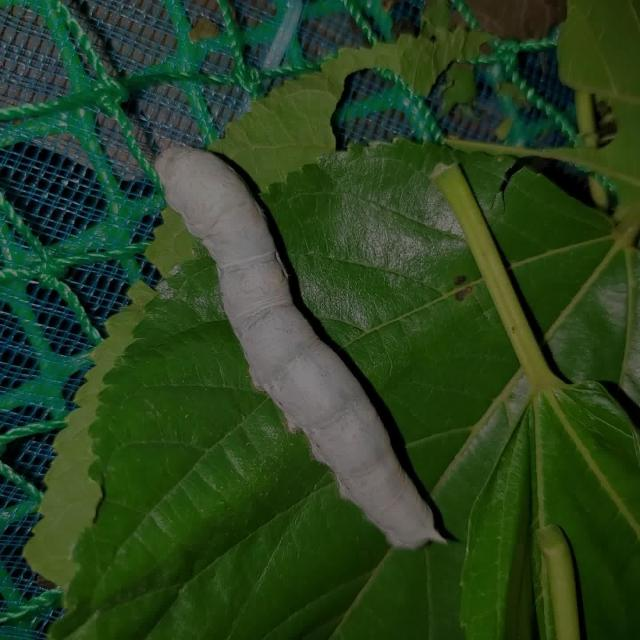Healthy: (150, 139, 453, 557)
